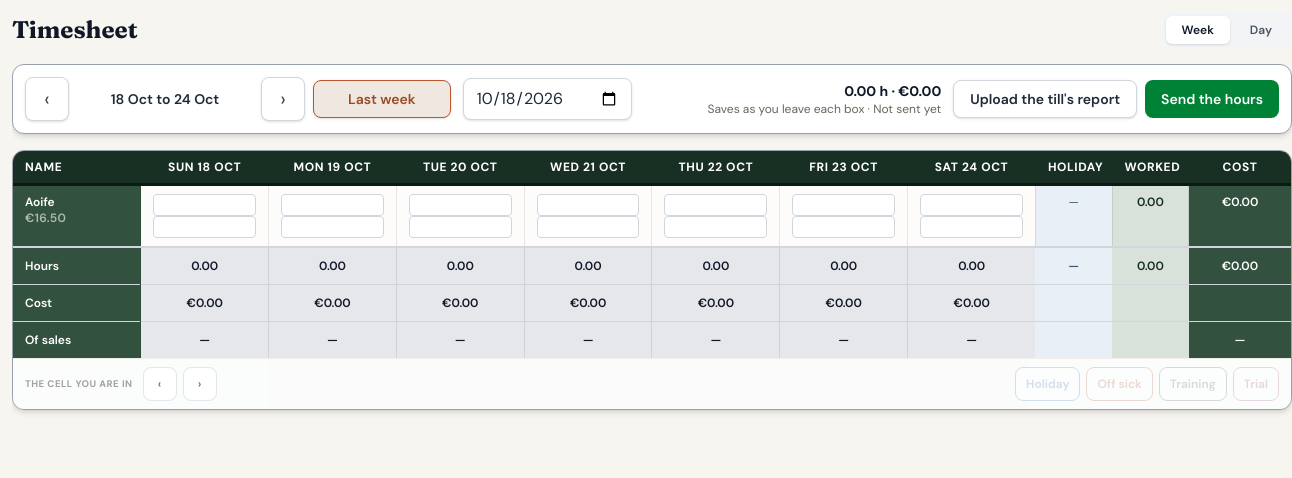
Scenario: Tab keeps its place while the row is being saved › takes the out time straight afterwards
Type "0900" into the 1st field named "Clock in".
click(205, 205); type("0900")  # box [153,194,256,216]
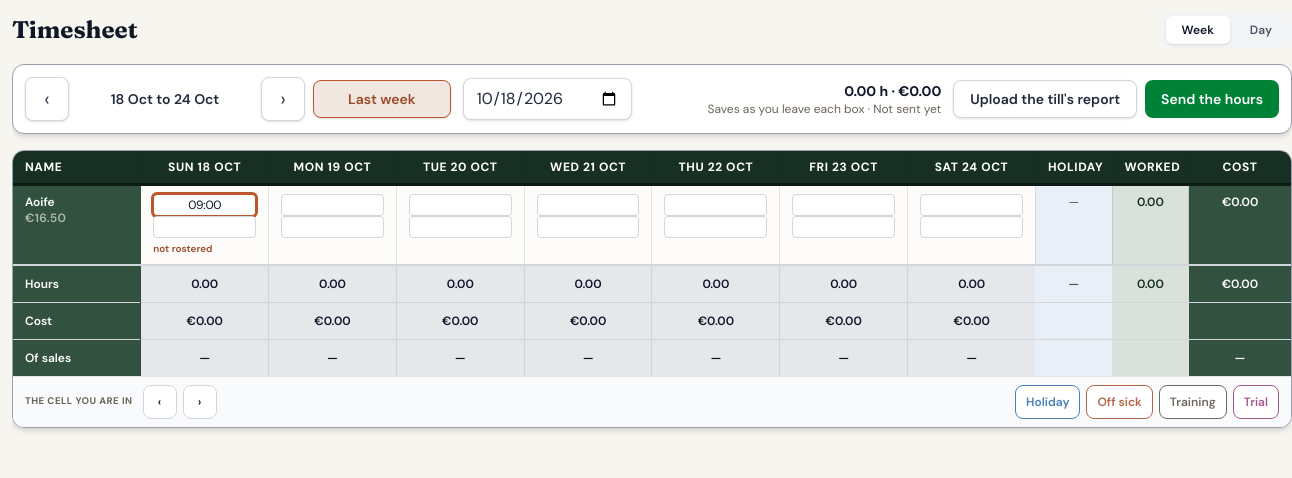
Press Tab
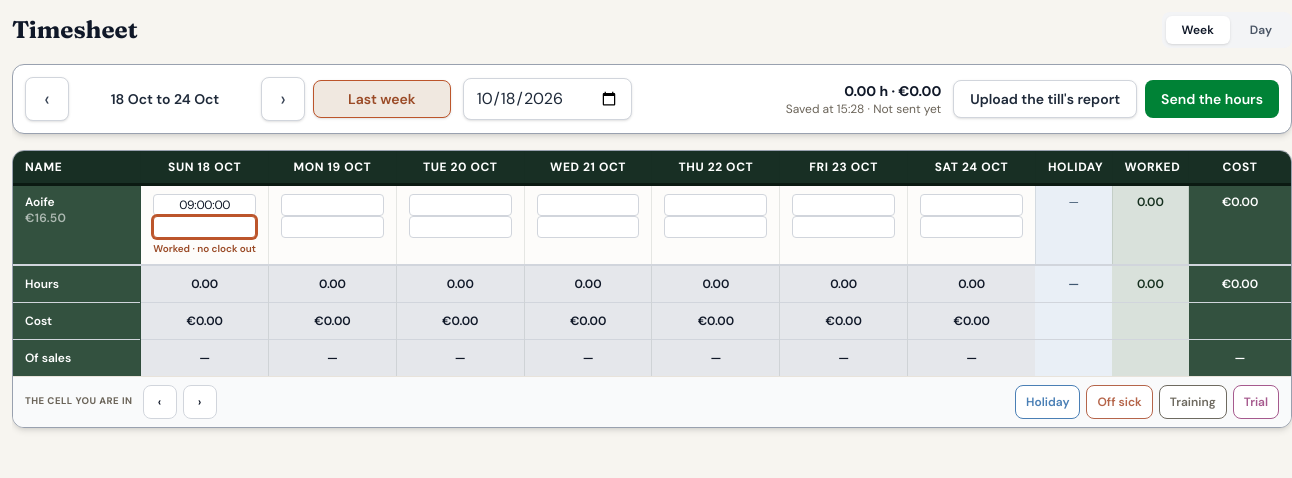
Type "1700" into the 1st field named "Clock out".
click(205, 227); type("1700")  # box [153,216,256,238]
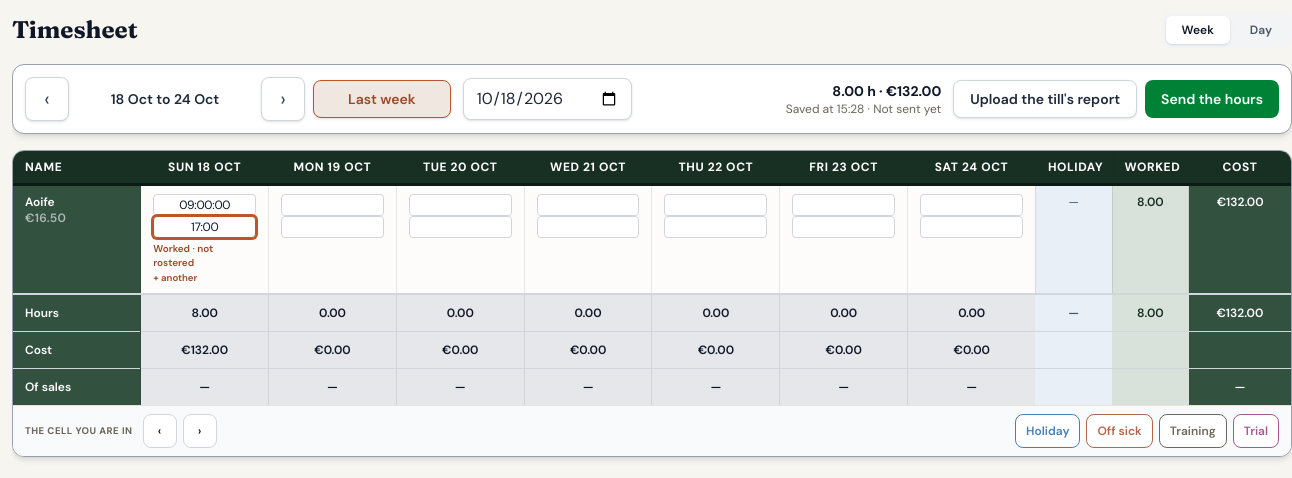
Expected: the 1st field named "Clock out" holds "17:00", [153,216,256,238]
